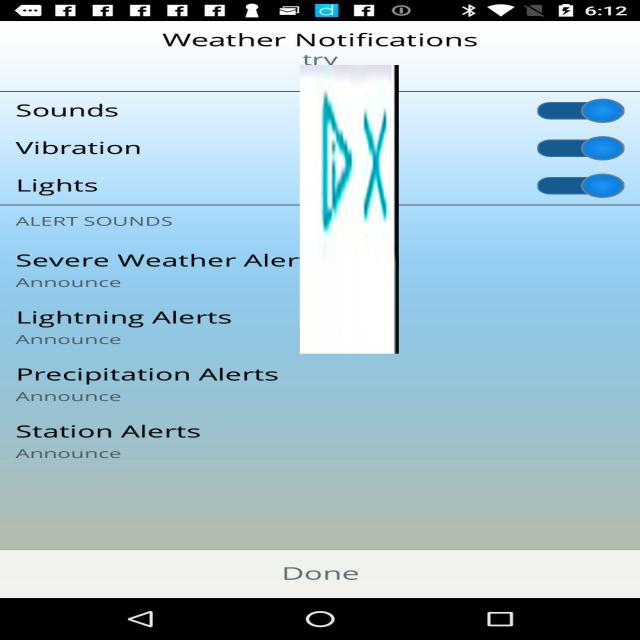sneaking: (300, 65, 399, 354)
